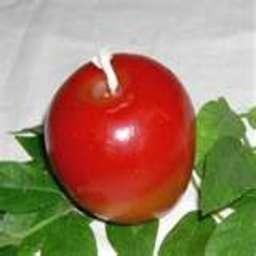apple: (43, 50, 196, 221)
